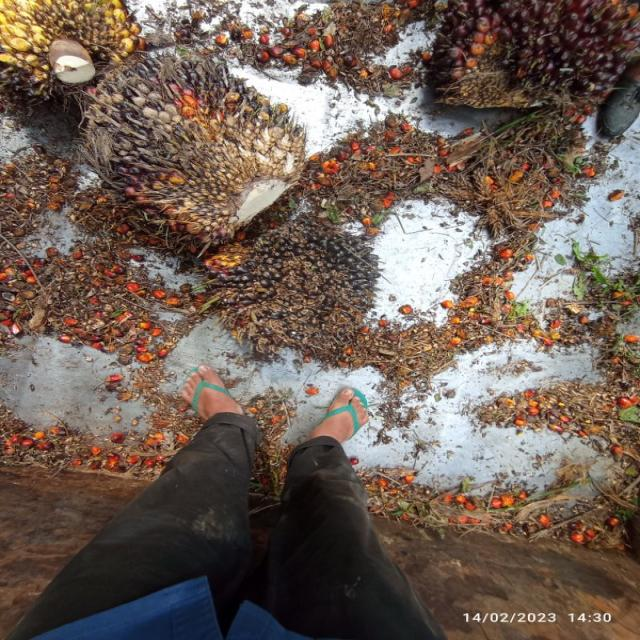fraksi 00: (77, 50, 306, 246), (218, 210, 384, 364)
